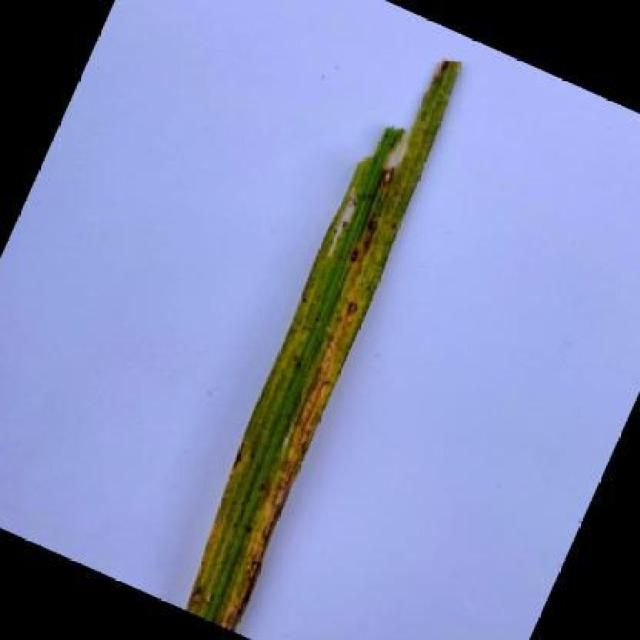Rice False Smut: (150, 18, 495, 633)
